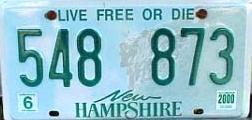placa de veiculo: (5, 1, 246, 120)
